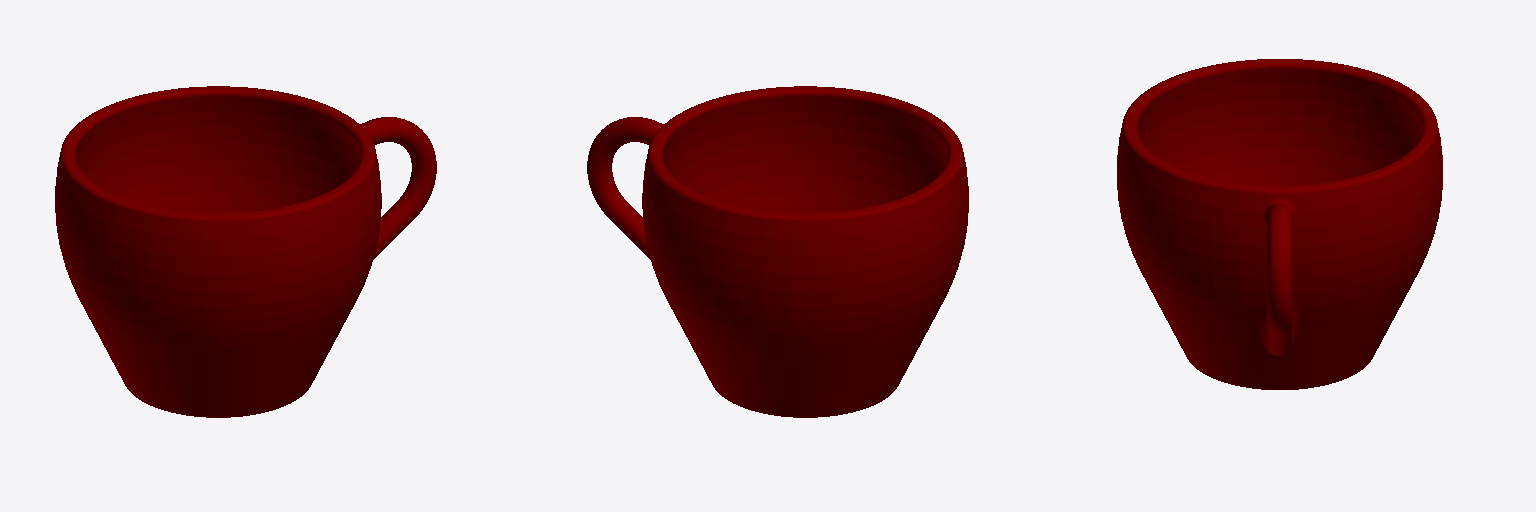
The model's file is coffee-cup.obj.
3 views of the same model, side by side, from view 1: azimuth 30°, elevation 25°; view 2: azimuth 150°, elevation 25°; view 3: azimuth 270°, elevation 25° (orthographic).
Visible parts, largest first — view 1: Coffee_Cup; view 2: Coffee_Cup; view 3: Coffee_Cup.
Part boxes in pixels (left/top/right/bottom): Coffee_Cup: left=55, top=86, right=436, bottom=417; Coffee_Cup: left=587, top=86, right=968, bottom=417; Coffee_Cup: left=1117, top=59, right=1442, bottom=389.
Bounding box in the file's own units: 0.1648 × 0.1 × 0.1301.